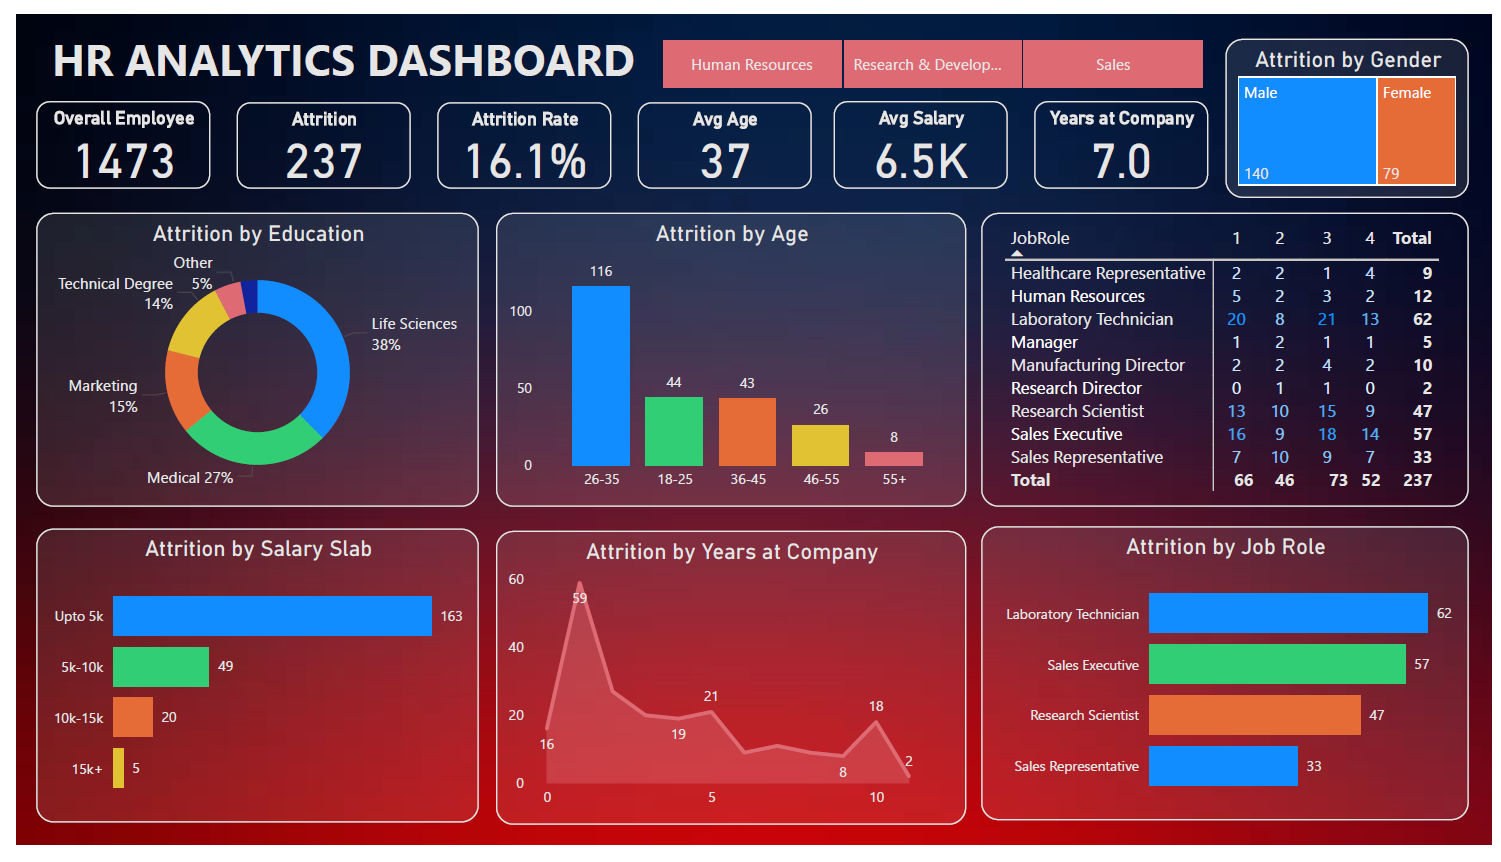

The page's visual inventory and layout, read from the dashboard file:
{"tool":"powerbi","page":{"name":"Page 1","canvas":[1280,720],"ordinal":0},"visuals":[{"type":"card","title":"Overall Employee","fields":{"Values":["CountNonNull(HR_Analytics.EmpID)"]},"box":[17,75,151.2,75.6],"z":0},{"type":"card","title":"Attrition","fields":{"Values":["Sum(HR_Analytics.AttritionCount)"]},"box":[190.9,75.6,151.2,75.6],"z":1000},{"type":"card","title":"Attrition Rate","fields":{"Values":["HR_Analytics.AttritionRate"]},"box":[364.7,75.6,151.2,75.6],"z":2000},{"type":"card","title":"Avg Age","fields":{"Values":["Avg(HR_Analytics.Age)"]},"box":[538.6,75.6,151.2,75.6],"z":3000},{"type":"card","title":"Avg Salary","fields":{"Values":["Avg(HR_Analytics.MonthlyIncome)"]},"box":[708.7,75,151.2,75.6],"z":4000},{"type":"card","title":"Years at Company","fields":{"Values":["Avg(HR_Analytics.YearsAtCompany)"]},"box":[882.5,75,151.2,75.6],"z":5000},{"type":"donutChart","title":"Attrition by Education","fields":{"Category":["HR_Analytics.EducationField"],"Y":["Sum(HR_Analytics.AttritionCount)"]},"box":[17,172,383.6,255.1],"z":6000},{"type":"columnChart","title":"Attrition by Age","fields":{"Category":["HR_Analytics.AgeGroup"],"Y":["Sum(HR_Analytics.AttritionCount)"]},"box":[415.8,172,408.2,255.1],"z":7000},{"type":"pivotTable","fields":{"Rows":["HR_Analytics.JobRole"],"Values":["Sum(HR_Analytics.AttritionCount)"],"Columns":["HR_Analytics.JobSatisfaction"]},"box":[837.2,172,423.3,255.1],"z":8000},{"type":"barChart","title":"Attrition by Salary Slab","fields":{"Category":["HR_Analytics.SalarySlab"],"Y":["Sum(HR_Analytics.AttritionCount)"]},"box":[17,446,383.6,255.1],"z":9000},{"type":"barChart","title":"Attrition by Job Role","fields":{"Y":["Sum(HR_Analytics.AttritionCount)"],"Category":["HR_Analytics.JobRole"]},"box":[837.2,444.1,423.3,255.1],"z":10000},{"type":"areaChart","title":"Attrition by Years at Company","fields":{"Category":["HR_Analytics.YearsAtCompany"],"Y":["Sum(HR_Analytics.AttritionCount)"]},"box":[415.8,447.9,408.2,255.1],"z":11000},{"type":"treemap","title":"Attrition by Gender","fields":{"Group":["HR_Analytics.Gender"],"Values":["Sum(HR_Analytics.AttritionCount)"]},"box":[1048.8,21.2,211.7,138],"z":12000},{"type":"slicer","fields":{"Values":["HR_Analytics.Department"]},"box":[534.8,15.5,517.8,54.8],"z":13000},{"type":"textbox","box":[17,7.6,532.9,68],"z":14000}]}

Visuals, with their boxes in screenshot pixels (x1, y1, x2, y2), scaled from the page's 1280x720 canvas onto the 1501x862 screenshot:
"Overall Employee" card: bbox(20, 90, 197, 180)
"Attrition" card: bbox(224, 91, 401, 181)
"Attrition Rate" card: bbox(428, 91, 605, 181)
"Avg Age" card: bbox(632, 91, 809, 181)
"Avg Salary" card: bbox(831, 90, 1008, 180)
"Years at Company" card: bbox(1035, 90, 1212, 180)
"Attrition by Education" donutChart: bbox(20, 206, 470, 511)
"Attrition by Age" columnChart: bbox(488, 206, 966, 511)
pivotTable - HR_Analytics.JobRole x Sum(HR_Analytics.AttritionCount): bbox(982, 206, 1478, 511)
"Attrition by Salary Slab" barChart: bbox(20, 534, 470, 839)
"Attrition by Job Role" barChart: bbox(982, 532, 1478, 837)
"Attrition by Years at Company" areaChart: bbox(488, 536, 966, 842)
"Attrition by Gender" treemap: bbox(1230, 25, 1478, 191)
slicer - HR_Analytics.Department: bbox(627, 19, 1234, 84)
textbox: bbox(20, 9, 645, 91)
